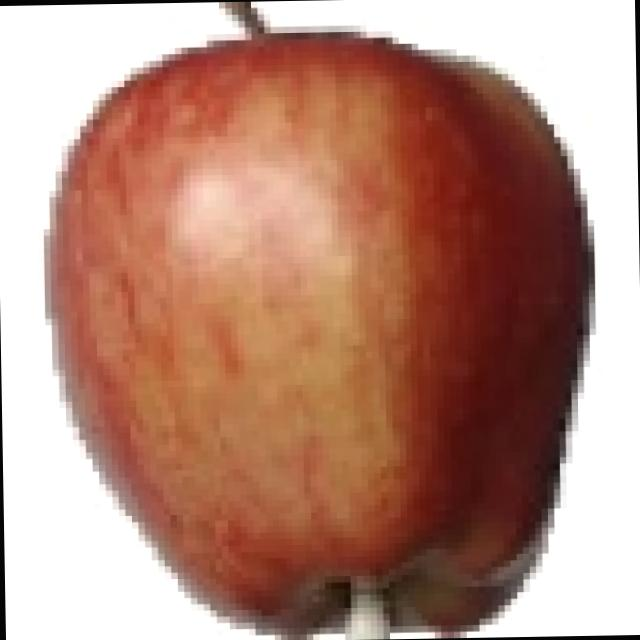apple: (12, 14, 604, 628)
